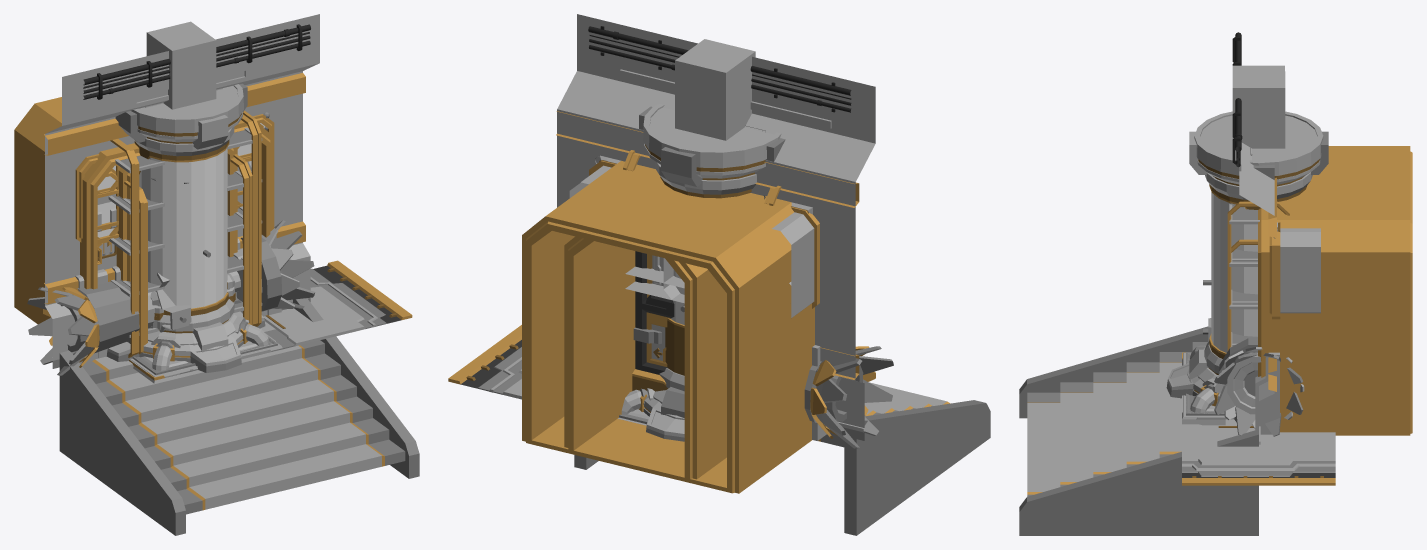
File: arena_map.glb
3 renders of one model, left to right at view 1: azimuth 30°, elevation 25°; view 2: azimuth 150°, elevation 25°; view 3: azimuth 270°, elevation 25°, orthographic. The views are drawn at different scales.
Parts seen in each view (by area): view 1: Staircase, Props_Pod, DoorDouble_Wall_SideA, Window_Wall_SideB, Props_Laser, DoorDoubleLong_Wall_SideA, DoorSingle_Wall_SideA, Props_Shelf_Tall, FloorTile_Double, Pipes, Props_Shelf, LongWindow_Wall_SideA (+9 smaller); view 2: DoorDoubleLong_Wall_SideA, DoorSingleLong_Wall_SideA, Window_Wall_SideB, DoorDouble_Wall_SideA, Staircase, Props_Pod, SmallWindows_Wall_SideA, LongWindow_Wall_SideA, DoorSingle_Wall_SideA, Column_1, Props_Laser, Window_Wall_SideA (+9 smaller); view 3: Staircase, DoorDoubleLong_Wall_SideA, Props_Pod, DoorDouble_Wall_SideA, FloorTile_Double, Props_Laser, Window_Wall_SideA, Column_1, Props_Shelf_Tall, Column_3, Window_Wall_SideB, SmallWindows_Wall_SideA (+4 smaller).
Part boxes in pixels (x1=…): Staircase: x1=59, y1=298, x2=419, y2=535; Props_Pod: x1=115, y1=83, x2=269, y2=370; DoorDouble_Wall_SideA: x1=44, y1=51, x2=308, y2=368; Window_Wall_SideB: x1=44, y1=14, x2=319, y2=316; Props_Laser: x1=27, y1=220, x2=314, y2=375; DoorDoubleLong_Wall_SideA: x1=14, y1=97, x2=266, y2=324; DoorSingle_Wall_SideA: x1=44, y1=53, x2=276, y2=367; Props_Shelf_Tall: x1=108, y1=110, x2=262, y2=357; FloorTile_Double: x1=154, y1=260, x2=412, y2=380; Pipes: x1=83, y1=24, x2=310, y2=99; Props_Shelf: x1=118, y1=154, x2=252, y2=353; LongWindow_Wall_SideA: x1=45, y1=51, x2=308, y2=359; DoorDoubleLong_Wall_SideA: x1=522, y1=162, x2=814, y2=493; DoorSingleLong_Wall_SideA: x1=564, y1=182, x2=742, y2=482; Window_Wall_SideB: x1=556, y1=56, x2=875, y2=440; DoorDouble_Wall_SideA: x1=556, y1=23, x2=864, y2=457; Staircase: x1=574, y1=382, x2=990, y2=535; Props_Pod: x1=621, y1=103, x2=785, y2=417; SmallWindows_Wall_SideA: x1=557, y1=26, x2=864, y2=431; LongWindow_Wall_SideA: x1=557, y1=14, x2=858, y2=425; DoorSingle_Wall_SideA: x1=569, y1=19, x2=857, y2=418; Column_1: x1=675, y1=39, x2=755, y2=140; Props_Laser: x1=804, y1=346, x2=893, y2=448; Window_Wall_SideA: x1=557, y1=110, x2=819, y2=318; Staircase: x1=1019, y1=326, x2=1258, y2=535; DoorDoubleLong_Wall_SideA: x1=1261, y1=146, x2=1412, y2=435; Props_Pod: x1=1189, y1=111, x2=1328, y2=412; DoorDouble_Wall_SideA: x1=1239, y1=146, x2=1333, y2=434; FloorTile_Double: x1=1182, y1=356, x2=1335, y2=485; Props_Laser: x1=1203, y1=318, x2=1304, y2=436; Window_Wall_SideA: x1=1272, y1=228, x2=1320, y2=313; Column_1: x1=1232, y1=65, x2=1285, y2=148; Props_Shelf_Tall: x1=1227, y1=201, x2=1289, y2=350; Column_3: x1=1232, y1=65, x2=1285, y2=144; Window_Wall_SideB: x1=1250, y1=148, x2=1280, y2=443; SmallWindows_Wall_SideA: x1=1239, y1=142, x2=1274, y2=440.
Size of the model in its own units: 5.08 by 5.7 by 5.11.
